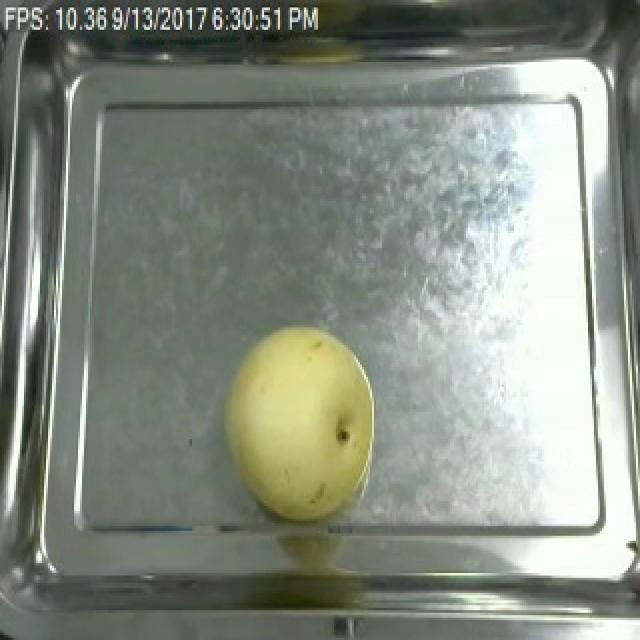Fruit: (214, 315, 386, 526)
